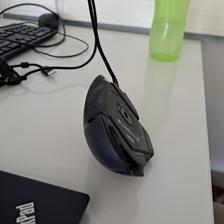mouse: (81, 73, 155, 178)
